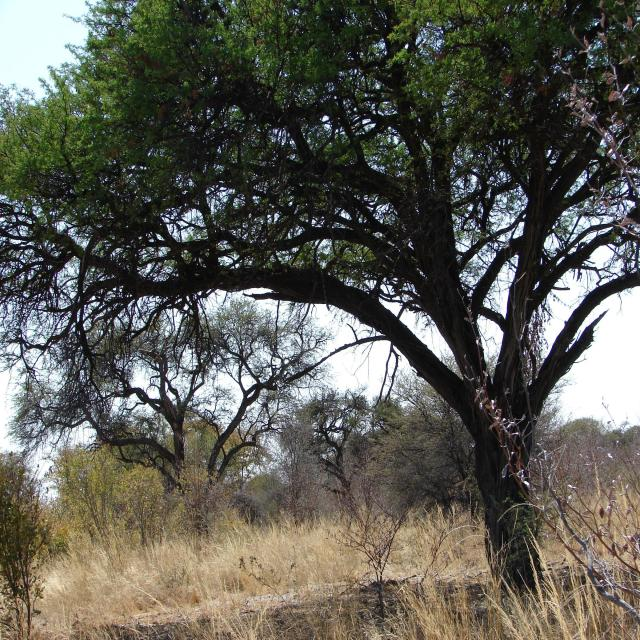Leopard: (270, 255, 334, 302)
